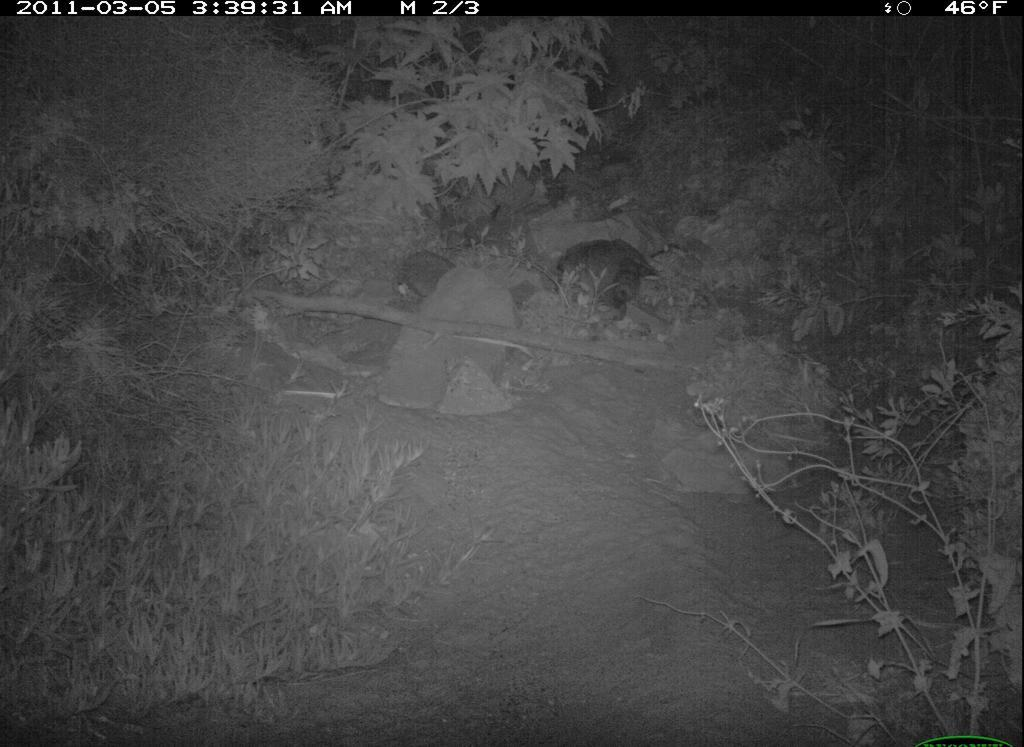raccoon: (557, 235, 664, 333)
